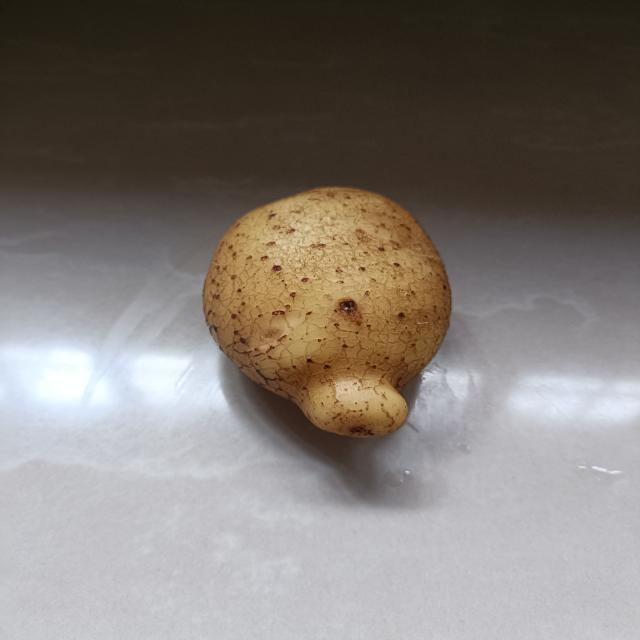potato: (197, 175, 460, 440)
